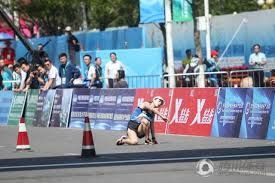10+: (1, 26, 275, 149)
down: (111, 90, 174, 147)
